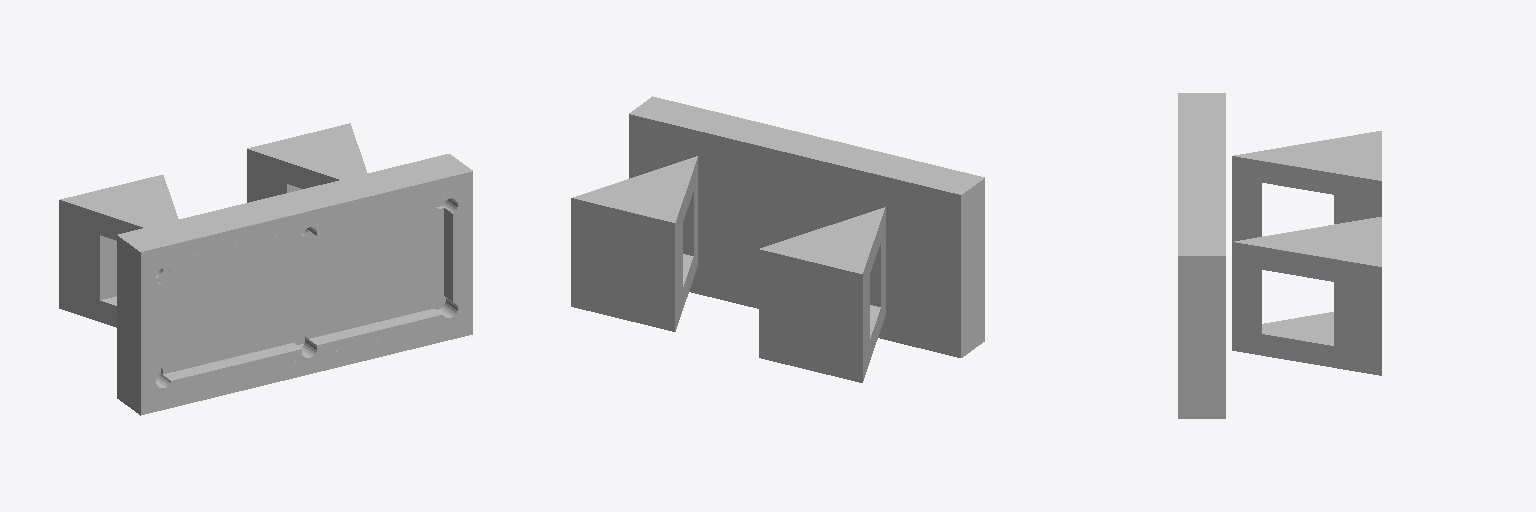
The model's file is Mesa.obj.
3 views of the same model, side by side, from view 1: azimuth 30°, elevation 25°; view 2: azimuth 150°, elevation 25°; view 3: azimuth 270°, elevation 25° (orthographic).
Visible parts, largest first — view 1: obj_0; view 2: obj_0; view 3: obj_0.
Boxes of the visible parts, x1=… form: obj_0: x1=59, y1=123, x2=472, y2=415; obj_0: x1=571, y1=96, x2=984, y2=382; obj_0: x1=1178, y1=93, x2=1381, y2=418.
Bounding box in the file's own units: 64 × 30 × 34.